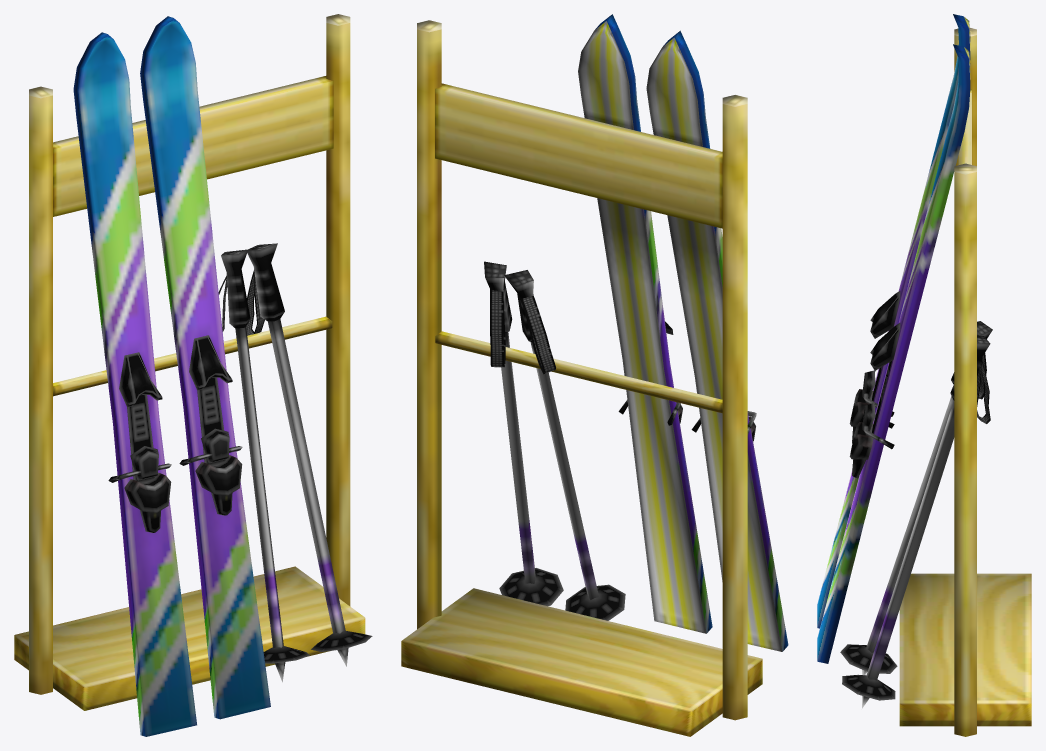
Rendered from int_oth_ski.dae.
3 renders of one model, left to right at view 1: azimuth 30°, elevation 25°; view 2: azimuth 150°, elevation 25°; view 3: azimuth 270°, elevation 25°, orthographic. The views are drawn at different scales.
Visible parts, largest first — view 1: int_oth_ski; view 2: int_oth_ski; view 3: int_oth_ski.
Boxes of the visible parts, bbox=[...] form: int_oth_ski: bbox=[14, 14, 372, 736]; int_oth_ski: bbox=[401, 14, 788, 736]; int_oth_ski: bbox=[817, 14, 1031, 736].
Size of the model in its own units: 26.58 by 50.97 by 16.28.
Materials: 1 (1 with a texture image).
